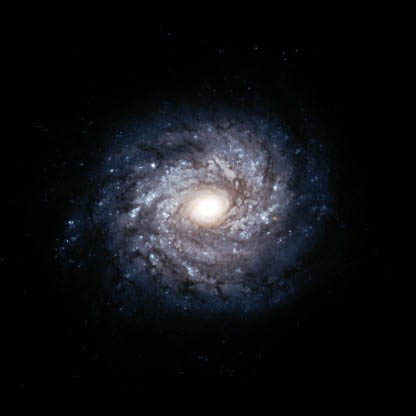NGC 3982: (94, 95, 330, 322)
